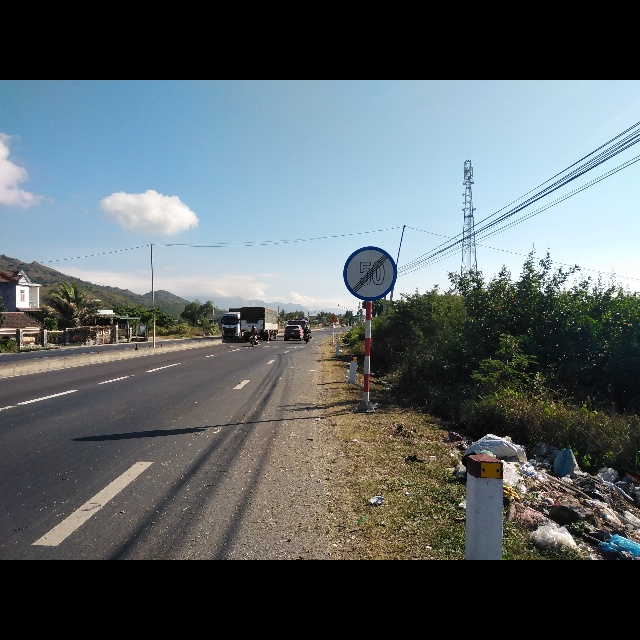Hết hạn chế tốc độ tối đa 50km/h: (340, 242, 398, 303)
